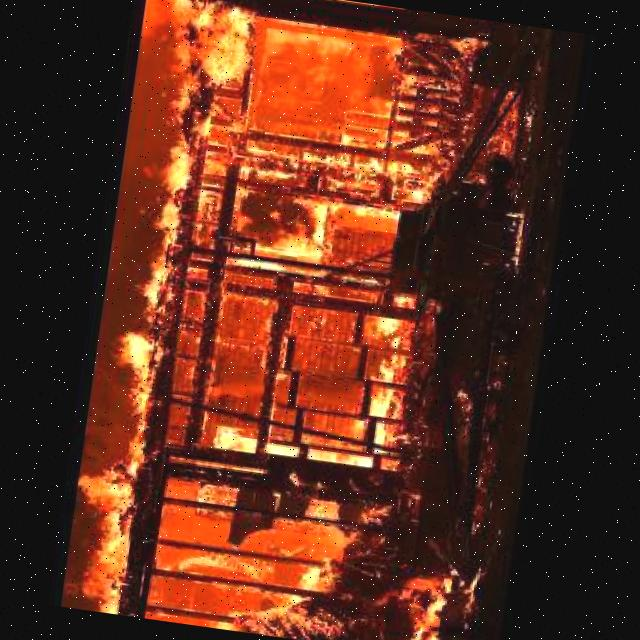fire: (63, 0, 582, 640)
